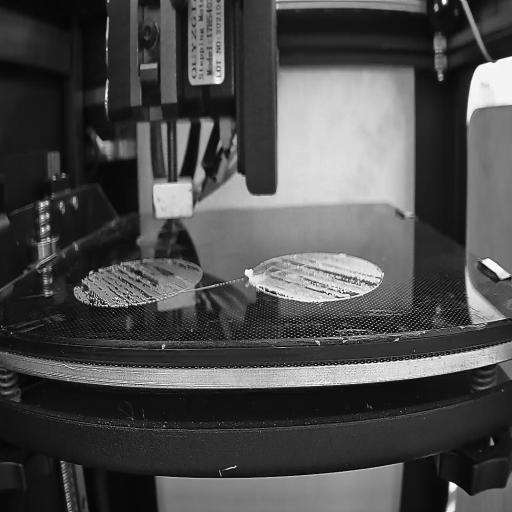under_extrusion: (76, 260, 175, 316), (260, 258, 384, 299), (179, 259, 204, 279)
